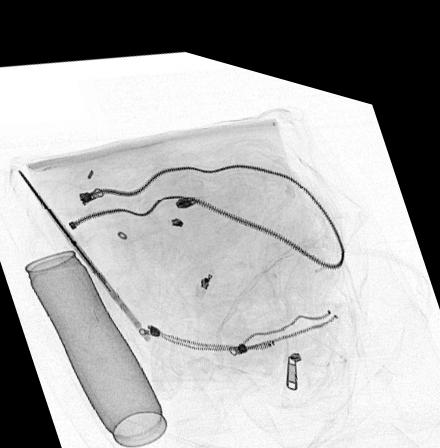Scissors: (14, 162, 145, 325)
